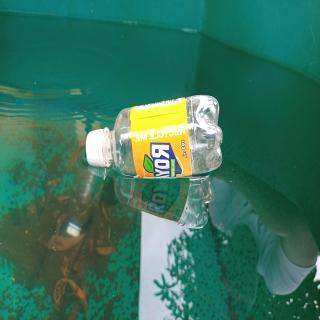bottle: (84, 91, 224, 180)
